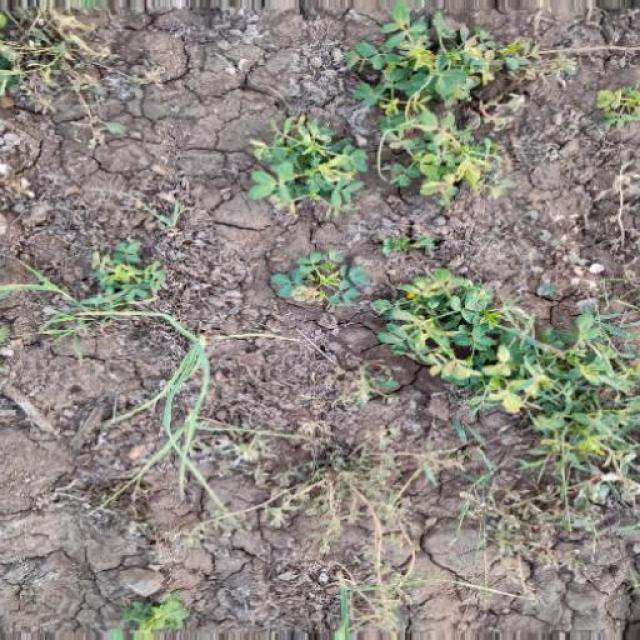weed: (31, 250, 318, 604), (216, 19, 640, 248), (381, 259, 640, 506)
